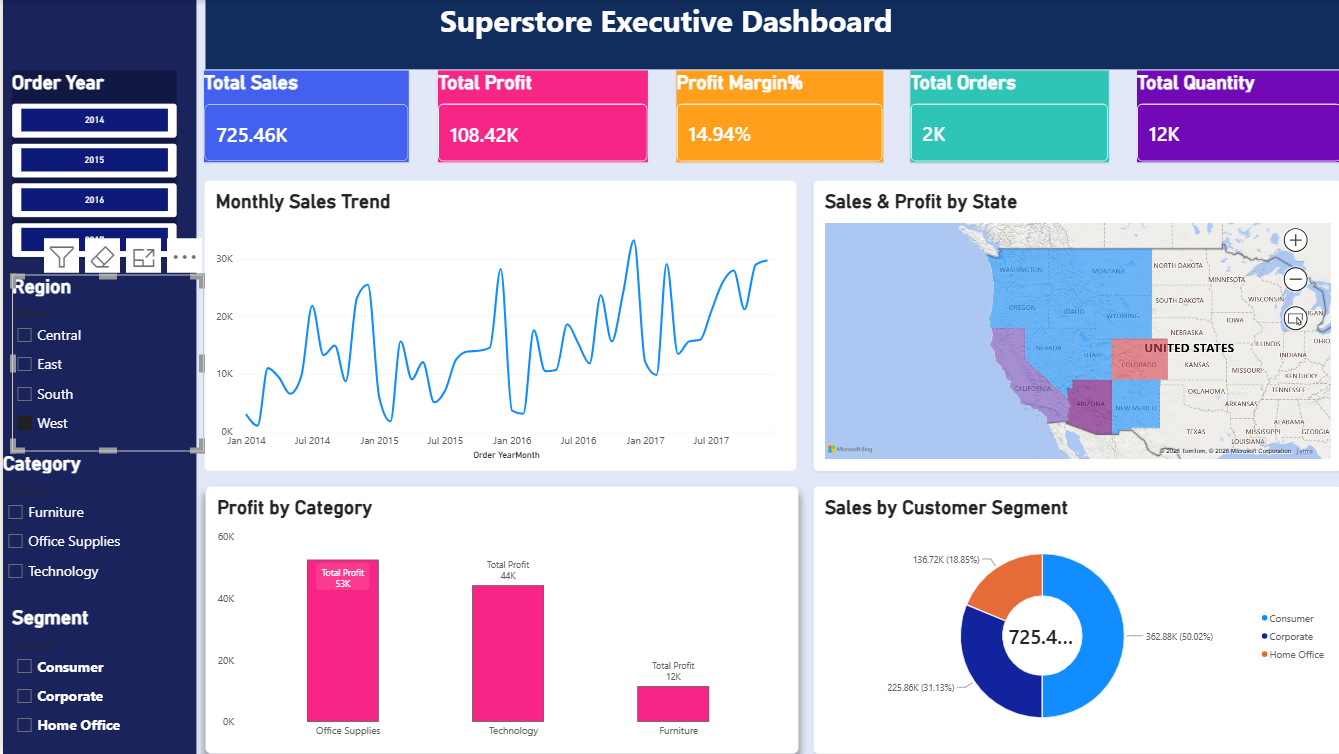

The dashboard page shown, as its layout file describes it:
{"tool":"powerbi","page":{"name":"Page 1","canvas":[1920,1080],"ordinal":0},"visuals":[{"type":"textbox","box":[289.1,0,1629.9,99.2],"z":1000},{"type":"shape","box":[0,0,277.1,1081.1],"z":1500},{"type":"cardVisual","title":"Total Profit","fields":{"Data":["Cleaned_Superstore.Total Profit"]},"box":[622.7,100.2,300.6,131.2],"z":2000},{"type":"cardVisual","title":"Profit Margin%","fields":{"Data":["Cleaned_Superstore.Profit Margin %"]},"box":[963.9,100.2,295.9,131.2],"z":3000},{"type":"cardVisual","title":"Total Orders","fields":{"Data":["Cleaned_Superstore.Total Orders"]},"box":[1300.3,100.2,283.9,131.2],"z":4000},{"type":"cardVisual","title":"Total Quantity","fields":{"Data":["Cleaned_Superstore.Total Quantity"]},"box":[1624.8,100.2,293.5,131.2],"z":5000},{"type":"cardVisual","title":"Total Sales","fields":{"Data":["Cleaned_Superstore.Total Sales"]},"box":[288.7,100.2,293.5,131.2],"z":6000},{"type":"advancedSlicerVisual","fields":{"Values":["Cleaned_Superstore.Order Year"]},"box":[11.9,100.2,236.2,269.6],"z":6500},{"type":"lineChart","title":"Monthly Sales Trend","fields":{"Category":["Cleaned_Superstore.Order YearMonth"],"Y":["Cleaned_Superstore.Total Sales"]},"box":[288.7,257.7,849.4,417.5],"z":7000},{"type":"clusteredColumnChart","title":"Profit by Category","fields":{"Category":["Cleaned_Superstore.Category"],"Y":["Cleaned_Superstore.Total Profit"]},"box":[289,697,849,383],"z":8000},{"type":"slicer","title":"Region","fields":{"Values":["Cleaned_Superstore.Region"]},"box":[11.9,393.7,276.8,252.9],"z":8500},{"type":"filledMap","title":" Sales & Profit by State","fields":{"Category":["Cleaned_Superstore.State"]},"box":[1159.6,257.7,758.7,417.5],"z":9000},{"type":"donutChart","title":" Sales by Customer Segment","fields":{"Category":["Cleaned_Superstore.Segment"],"Y":["Cleaned_Superstore.Total Sales"]},"box":[1159.6,696.7,758.7,384.1],"z":10000},{"type":"slicer","title":"Category","fields":{"Values":["Cleaned_Superstore.Category"]},"box":[0,646.6,276.8,193.3],"z":10001},{"type":"slicer","title":"Segment","fields":{"Values":["Cleaned_Superstore.Segment"]},"box":[11.9,868.5,276.8,212.3],"z":10002}]}

Visuals, with their boxes in screenshot pixels (x1, y1, x2, y2):
textbox: box(199, 0, 1320, 65)
shape: box(0, 0, 191, 740)
"Total Profit" cardVisual: box(428, 65, 635, 156)
"Profit Margin%" cardVisual: box(663, 65, 866, 156)
"Total Orders" cardVisual: box(894, 65, 1090, 156)
"Total Quantity" cardVisual: box(1117, 65, 1319, 156)
"Total Sales" cardVisual: box(199, 65, 400, 156)
advancedSlicerVisual - Cleaned_Superstore.Order Year: box(8, 65, 171, 251)
"Monthly Sales Trend" lineChart: box(199, 174, 783, 461)
"Profit by Category" clusteredColumnChart: box(199, 476, 783, 739)
"Region" slicer: box(8, 267, 199, 441)
" Sales & Profit by State" filledMap: box(798, 174, 1319, 461)
" Sales by Customer Segment" donutChart: box(798, 476, 1319, 740)
"Category" slicer: box(0, 441, 190, 574)
"Segment" slicer: box(8, 594, 199, 740)
